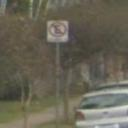NoEstacionar: (43, 19, 67, 40)
